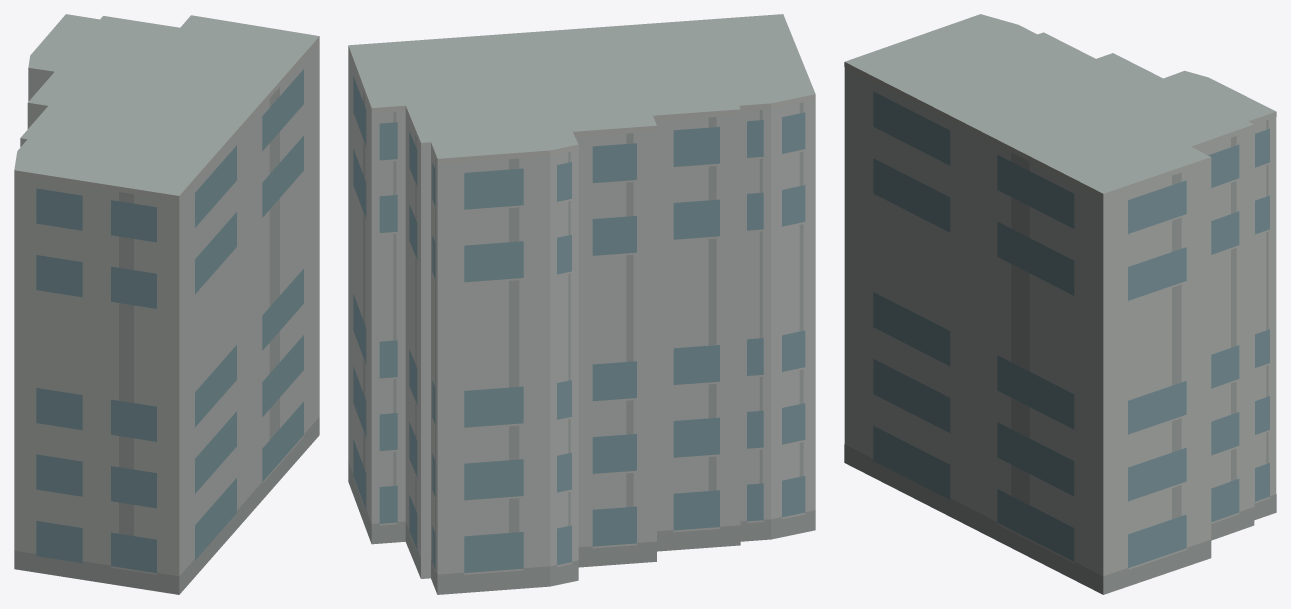
Rendered from survey-upis-32627025.glb.
3 renders of one model, left to right at view 1: azimuth 30°, elevation 25°; view 2: azimuth 150°, elevation 25°; view 3: azimuth 270°, elevation 25°, orthographic. The views are drawn at different scales.
Parts seen in each view (by area): view 1: survey-upis-32627025.tmp; view 2: survey-upis-32627025.tmp; view 3: survey-upis-32627025.tmp.
Part boxes in pixels (x1,y1,x2,y2): survey-upis-32627025.tmp: (14,14,319,594); survey-upis-32627025.tmp: (348,14,815,594); survey-upis-32627025.tmp: (844,14,1276,594).
Bounding box in the file's own units: 17.6 × 18.3 × 17.87.
